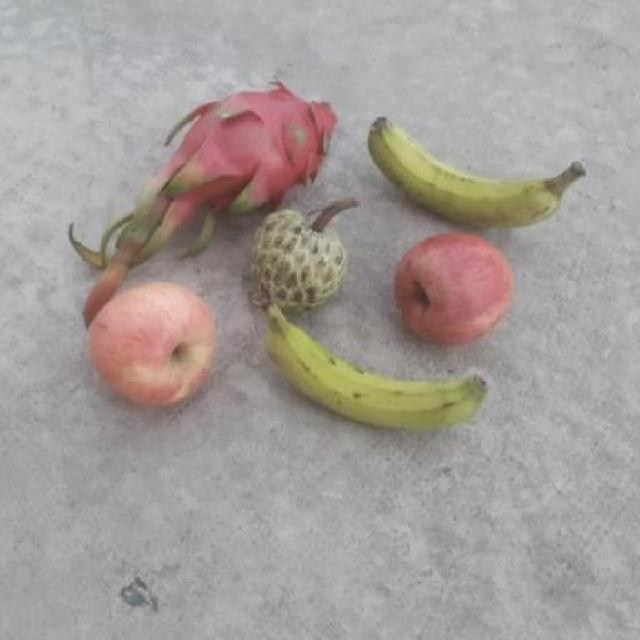apple: (85, 284, 213, 404), (384, 232, 518, 337)
banana: (253, 286, 495, 439), (358, 102, 593, 227)
dragon fruit: (174, 77, 341, 200)
sugar apple: (238, 200, 349, 314)
